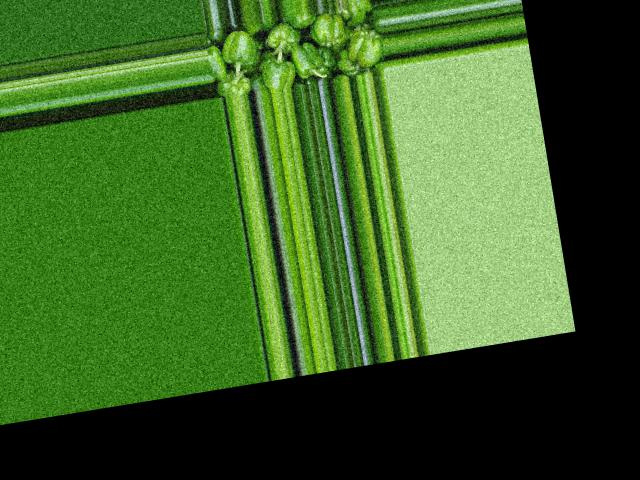bell_pepper: (205, 1, 387, 96)
